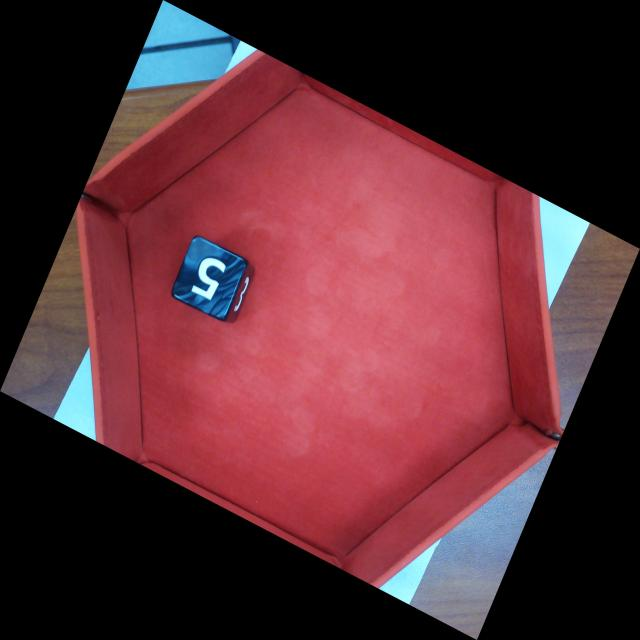dice: (167, 233, 251, 323)
